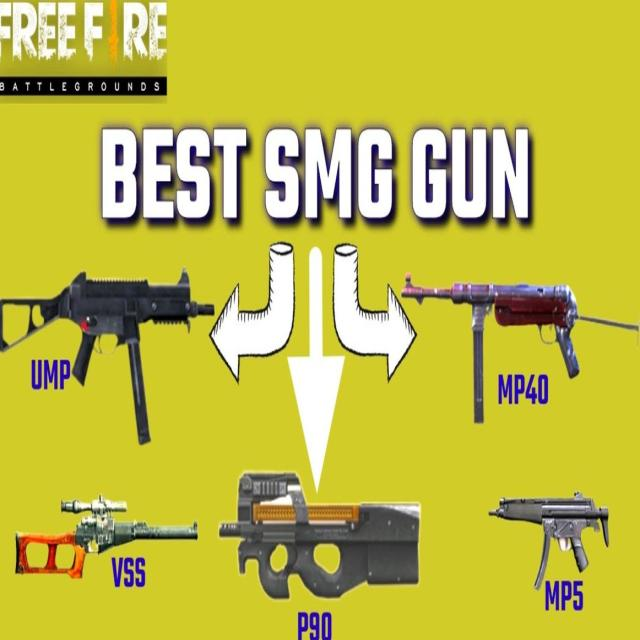Weapon: (0, 268, 214, 443), (402, 273, 639, 422), (220, 473, 419, 598), (15, 494, 197, 577), (490, 492, 609, 588)
